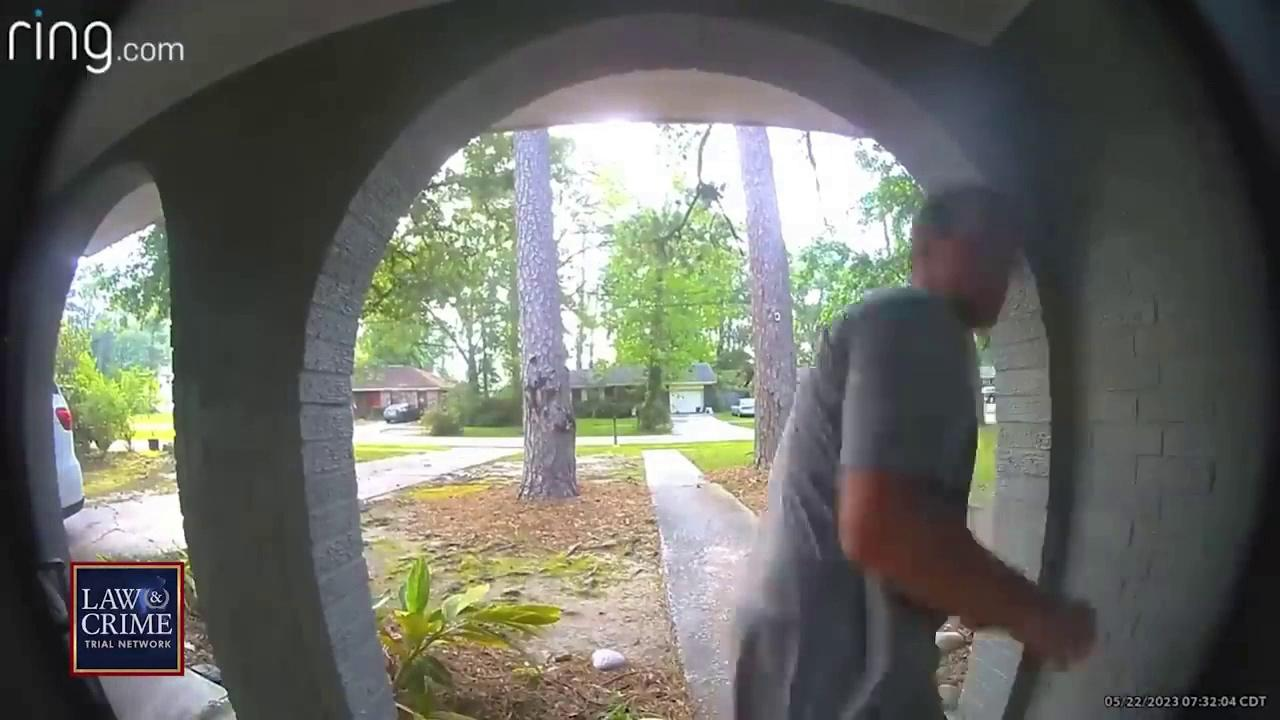suspicion: (748, 158, 1102, 720)
